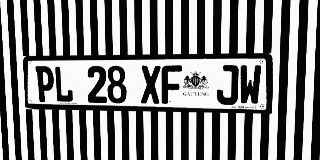2: (87, 66, 107, 103)
8: (107, 66, 127, 103)
F: (161, 65, 182, 104)
J: (216, 65, 239, 105)
L: (54, 66, 73, 102)
P: (35, 66, 55, 102)
W: (239, 65, 262, 105)
X: (140, 65, 161, 104)
